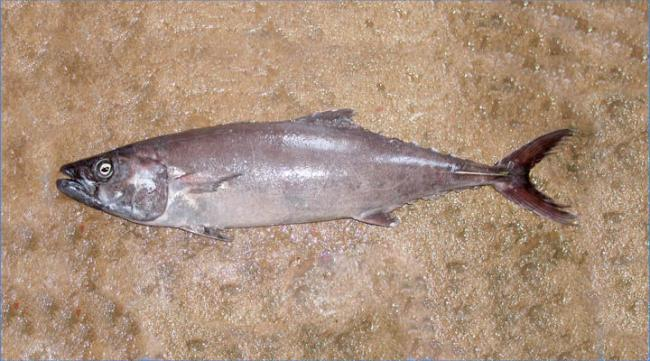fish: (54, 107, 581, 240)
